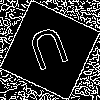U: (25, 25, 75, 81)
